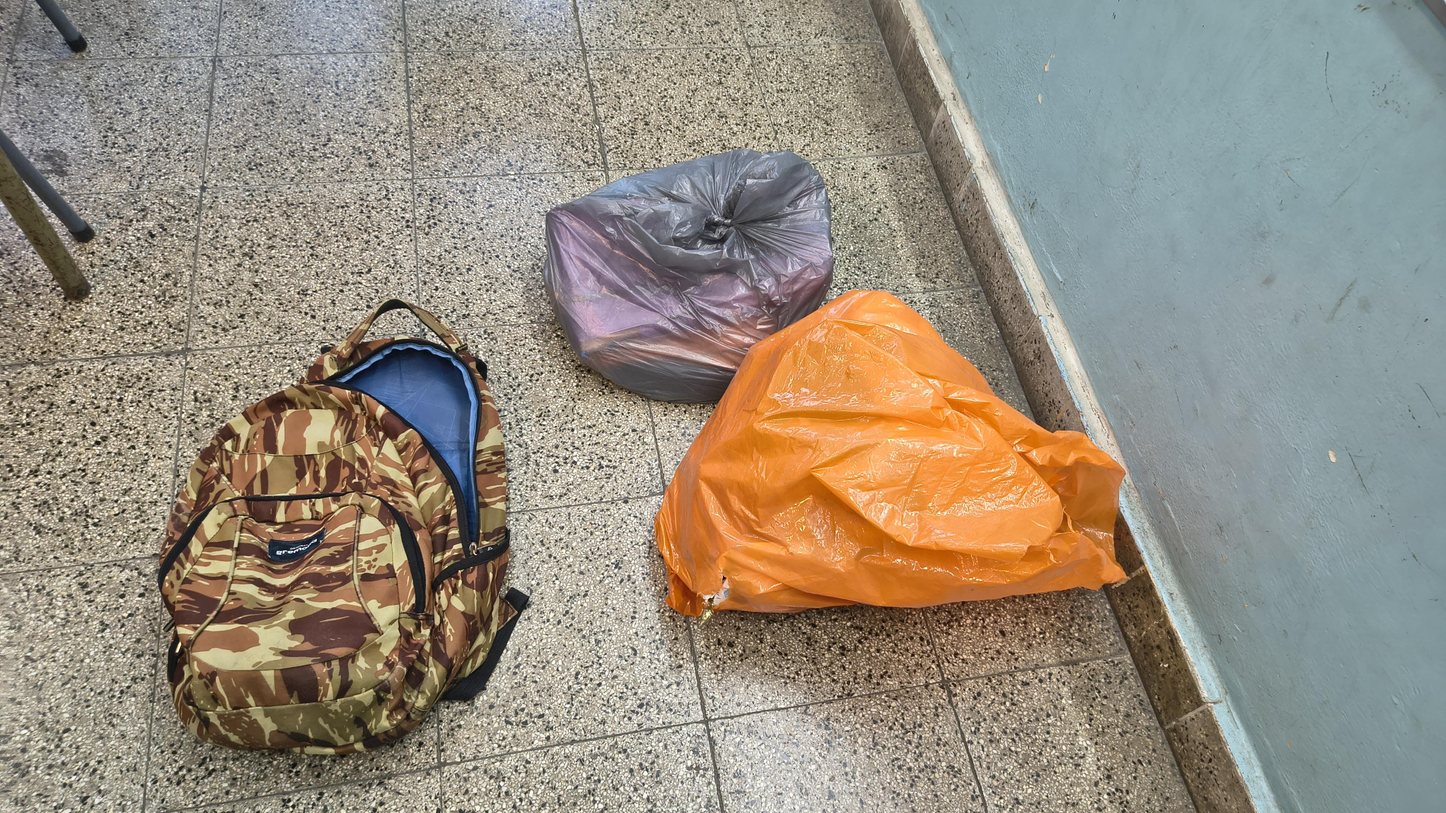Garbage: (644, 258, 1149, 644), (514, 108, 870, 406)
